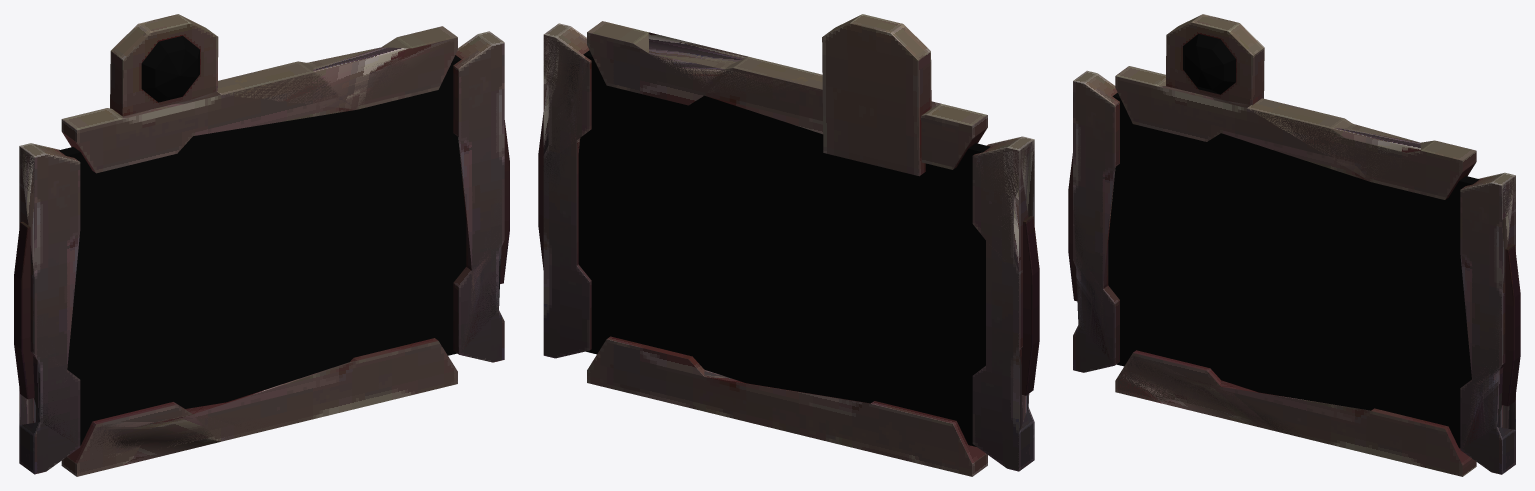
File: item_film_filter_noir.glb
3 renders of one model, left to right at view 1: azimuth 30°, elevation 25°; view 2: azimuth 150°, elevation 25°; view 3: azimuth 330°, elevation 25°, orthographic. The views are drawn at different scales.
Visible parts, largest first — view 1: Cube, IndicatorTab; view 2: Cube, IndicatorTab; view 3: Cube, IndicatorTab.
Boxes of the visible parts, bbox=[...] form: Cube: bbox=[14, 26, 509, 476]; IndicatorTab: bbox=[110, 14, 218, 116]; Cube: bbox=[538, 21, 1039, 476]; IndicatorTab: bbox=[822, 14, 931, 176]; Cube: bbox=[1068, 66, 1520, 476]; IndicatorTab: bbox=[1166, 14, 1264, 105].
Bounding box in the file's own units: 0.2824 × 0.2327 × 0.0219.
1 material, 1 textured.
